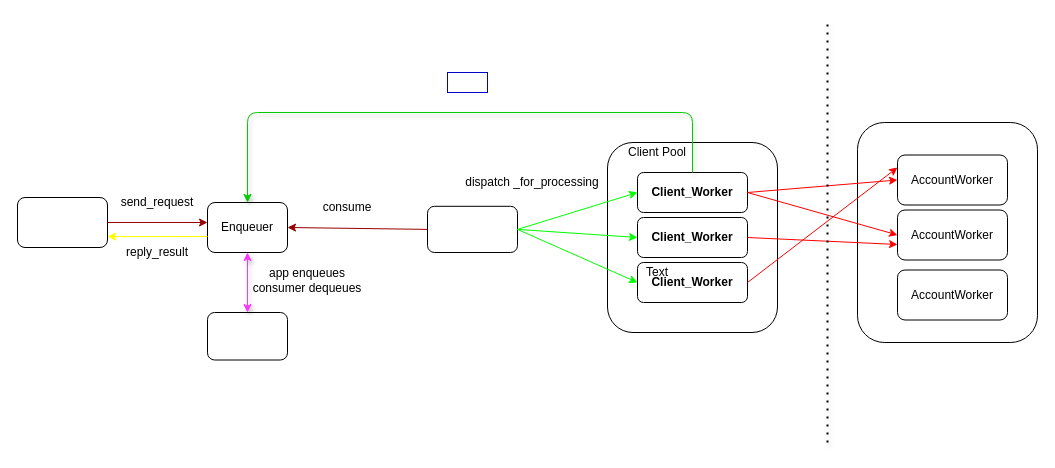
Image size: 1055x468. Some labels were removed from this diagram. The shapes that lost their labels are listed below. From the top down, each one's centre as x and y in pixels, then its label:
At (467,82): "send_result".
At (62,222): "app_server".
At (472,228): "Consumer".
At (247,336): "Queue".
